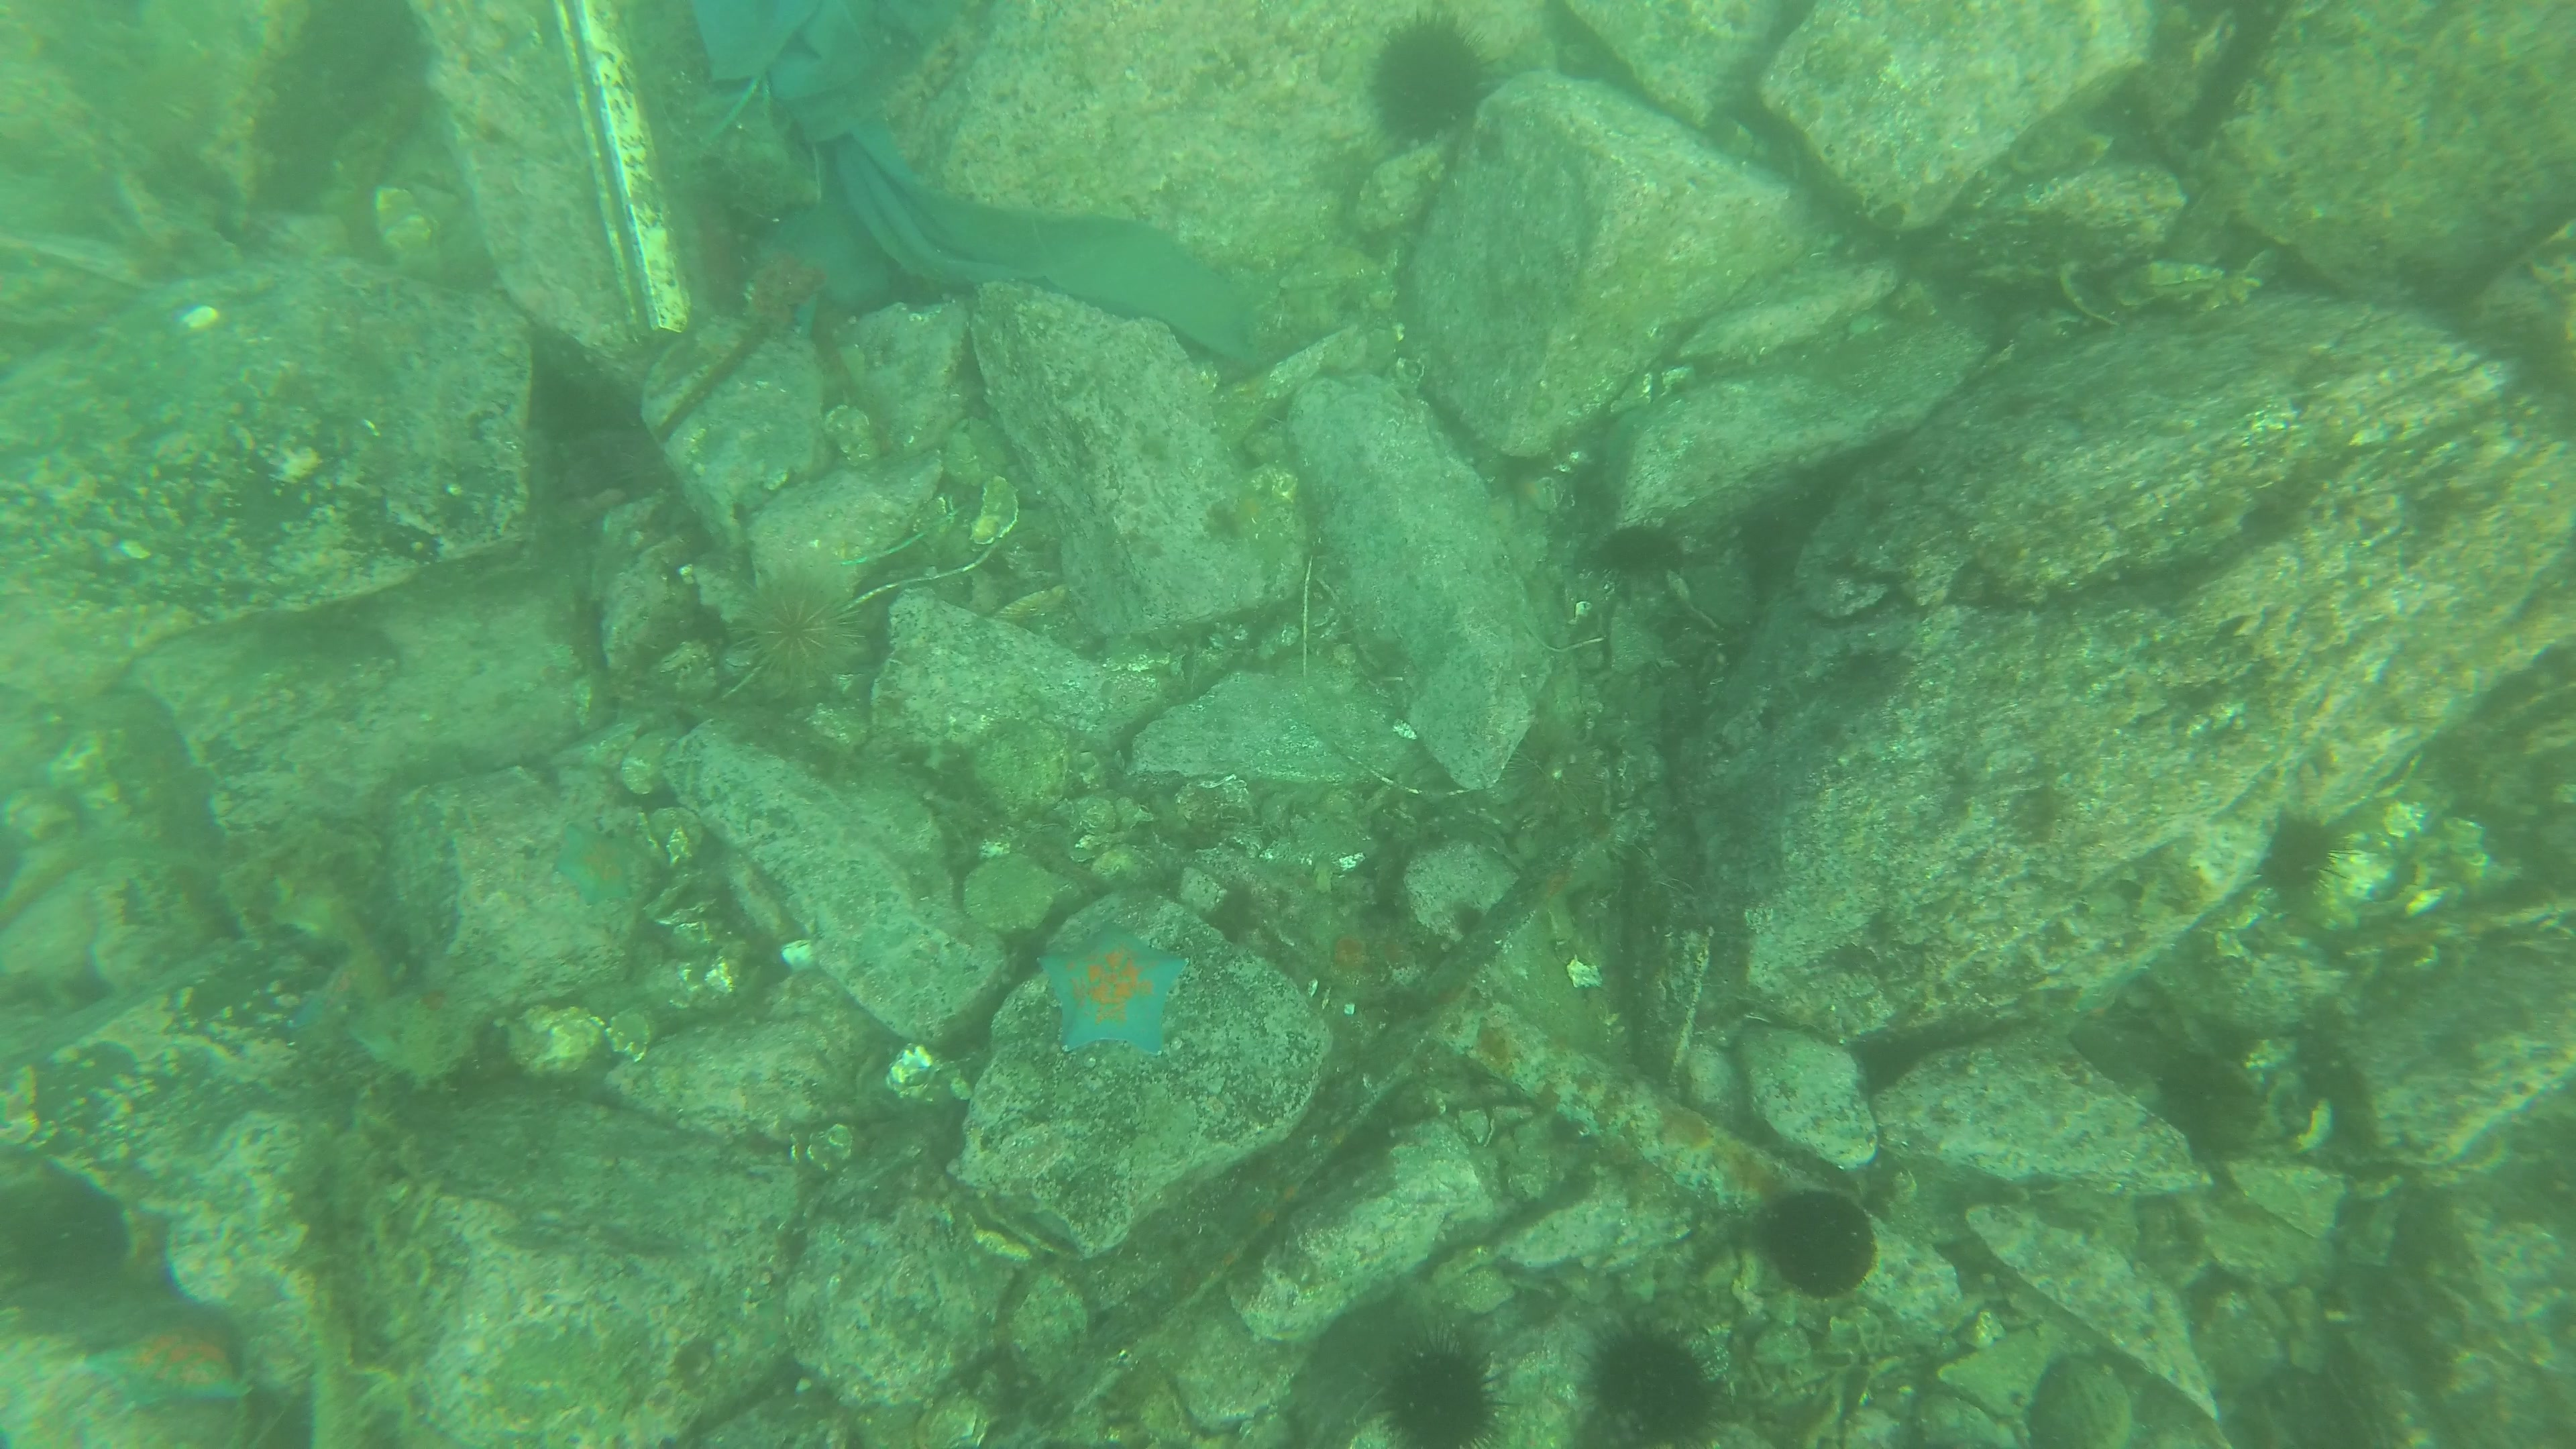echinus: (1364, 0, 1523, 152), (1575, 1313, 1743, 1449), (1362, 1322, 1518, 1449), (736, 568, 865, 701), (1760, 1180, 1890, 1307), (1585, 511, 1697, 586), (2254, 801, 2337, 895)
starfish: (1024, 913, 1200, 1058), (73, 1306, 255, 1415), (545, 810, 648, 909)
